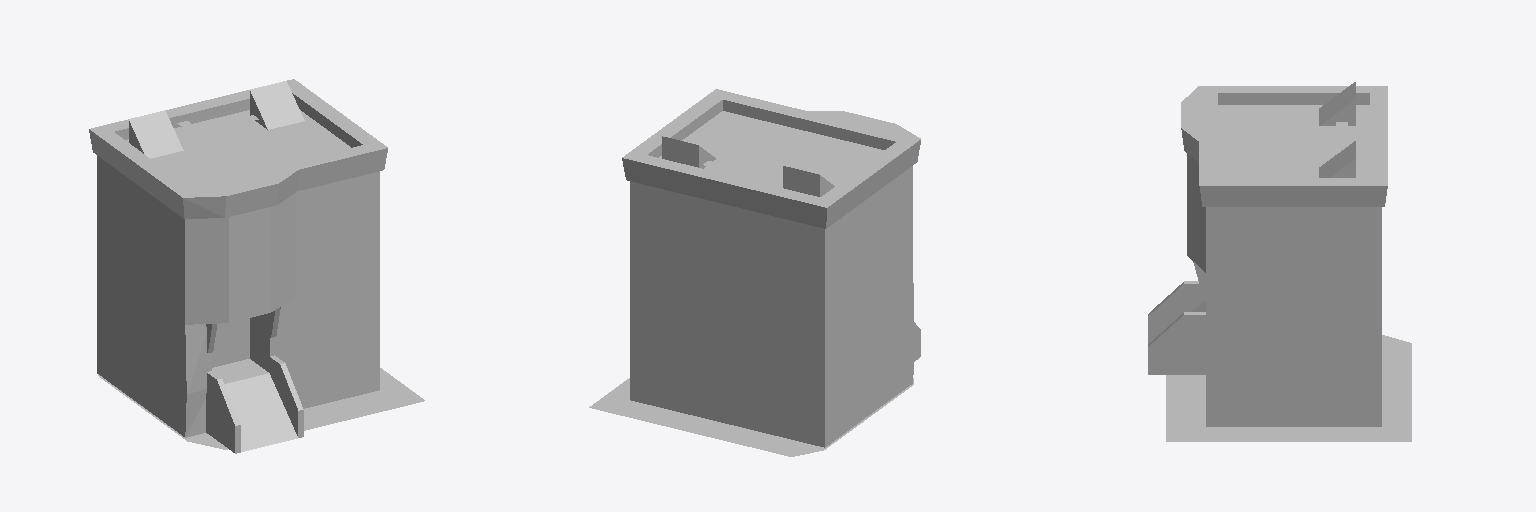
Rendered from Striaton City Building 1.obj.
3 renders of one model, left to right at view 1: azimuth 30°, elevation 25°; view 2: azimuth 150°, elevation 25°; view 3: azimuth 270°, elevation 25°, orthographic.
Visible parts, largest first — view 1: polygon3, polygon2, polygon0; view 2: polygon3, polygon2, polygon0; view 3: polygon3, polygon2, polygon0.
Boxes of the visible parts, x1,y1,x2,y2 form: polygon3: [97, 81, 379, 453]; polygon2: [89, 79, 387, 437]; polygon0: [98, 368, 424, 449]; polygon3: [630, 166, 920, 403]; polygon2: [622, 89, 920, 447]; polygon0: [589, 378, 913, 456]; polygon3: [1148, 82, 1381, 382]; polygon2: [1181, 86, 1387, 426]; polygon0: [1166, 335, 1411, 441].
Size of the model in its own units: 86 by 95.05 by 87.